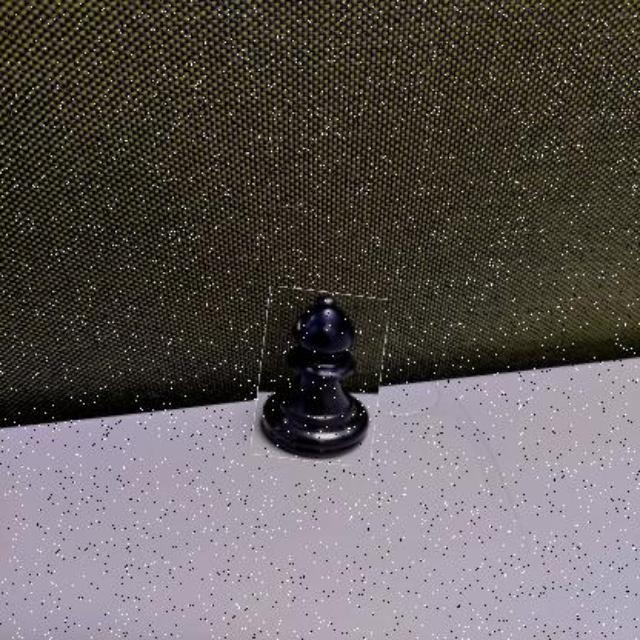black-bishop: (255, 290, 384, 464)
